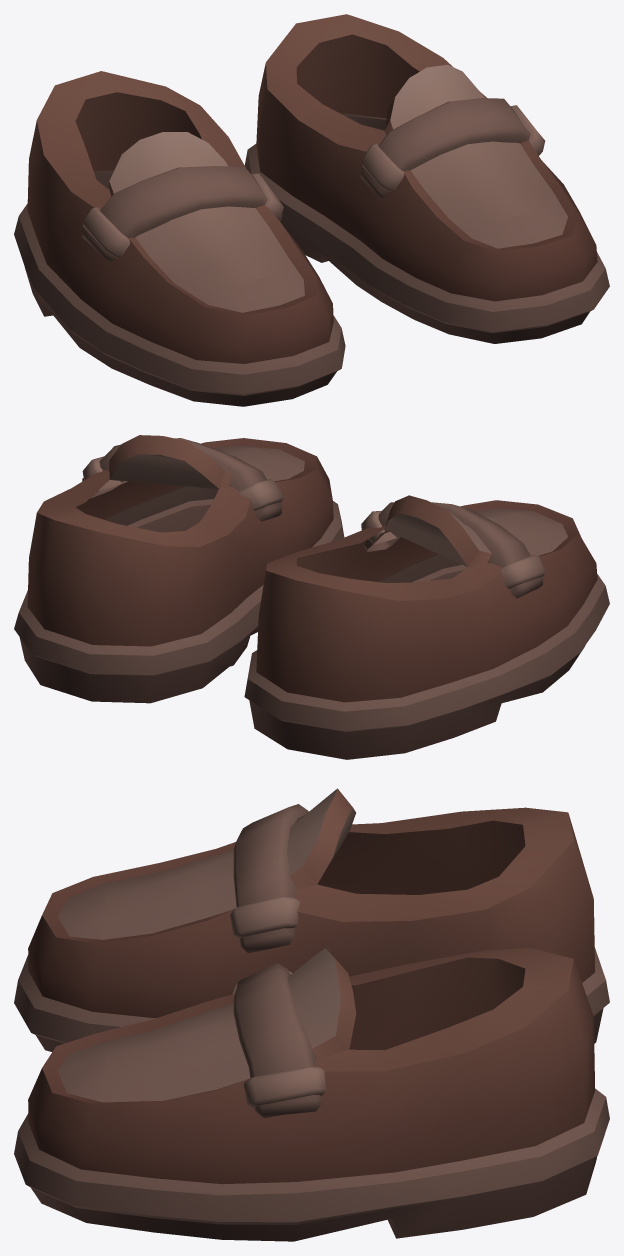
File: Shoe_Sneakers_11.glb
3 views of the same model, one above another, from view 1: azimuth 30°, elevation 25°; view 2: azimuth 150°, elevation 25°; view 3: azimuth 270°, elevation 25° (orthographic). The views are drawn at different scales.
Visible parts, largest first — view 1: Shoe_Sneakers_11; view 2: Shoe_Sneakers_11; view 3: Shoe_Sneakers_11.
Boxes of the visible parts, left/top/right/bottom form: Shoe_Sneakers_11: left=14, top=14, right=609, bottom=406; Shoe_Sneakers_11: left=14, top=435, right=609, bottom=759; Shoe_Sneakers_11: left=14, top=788, right=609, bottom=1241.
Size of the model in its own units: 0.2684 by 0.0977 by 0.2317.
Materials: 1 (1 with a texture image).
